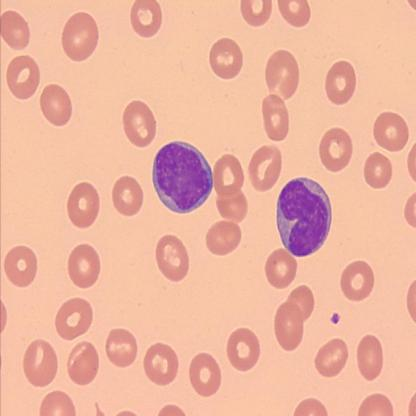Atypical lymphocyte: (276, 177, 333, 259), (154, 144, 213, 214)
